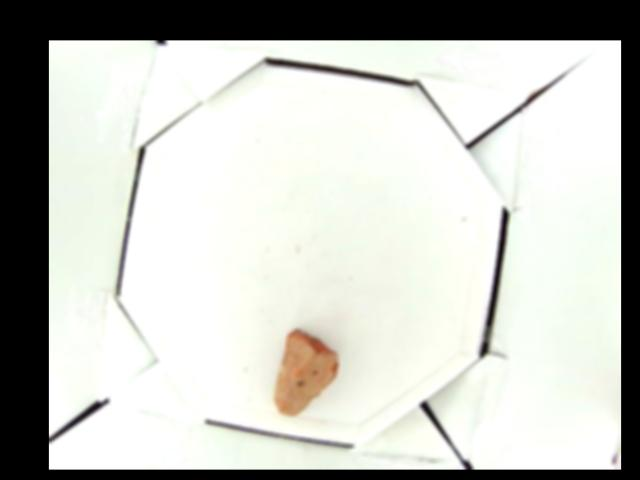Brisk: (274, 328, 339, 417)
